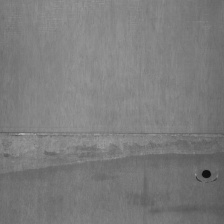welding_line: (1, 125, 224, 142), (201, 166, 213, 180)
